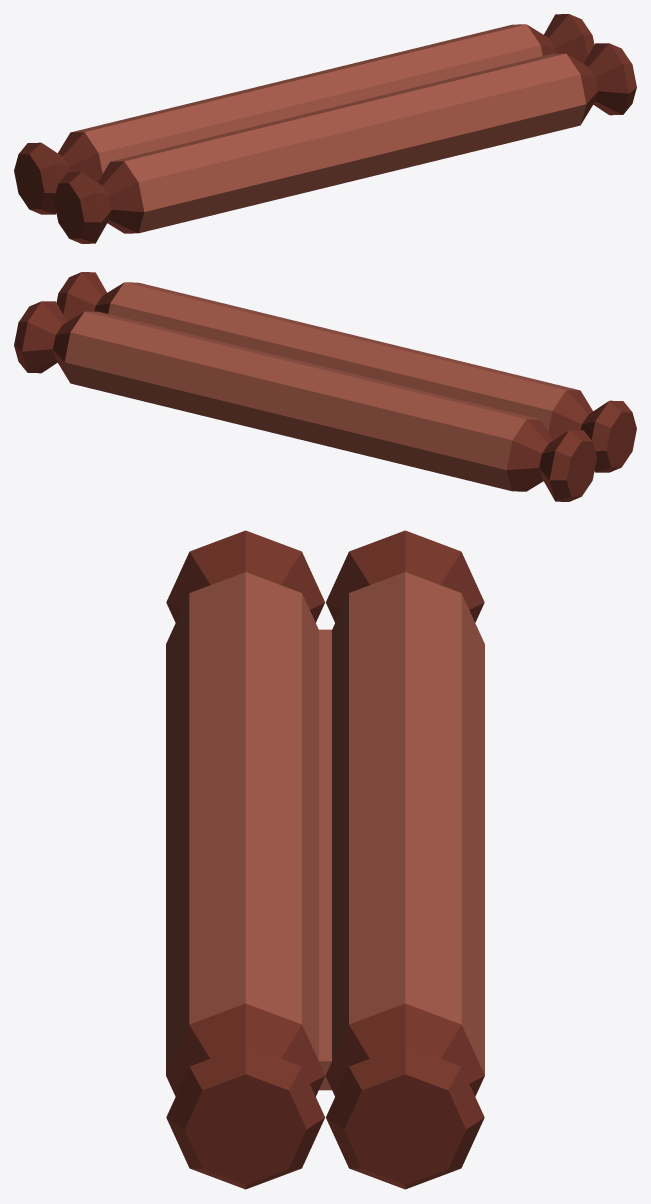
The model's file is Parchment_4_Red.fbx.
3 renders of one model, top to bottom at view 1: azimuth 30°, elevation 25°; view 2: azimuth 150°, elevation 25°; view 3: azimuth 270°, elevation 25°, orthographic. The views are drawn at different scales.
Visible parts, largest first — view 1: Parchment_4_Red_Part_2, Parchment_4_Red_Part_1; view 2: Parchment_4_Red_Part_2, Parchment_4_Red_Part_1; view 3: Parchment_4_Red_Part_2, Parchment_4_Red_Part_1.
Part boxes in pixels (box(x1,y1,x2,y2)): Parchment_4_Red_Part_2: box(72, 24, 586, 232); Parchment_4_Red_Part_1: box(14, 14, 636, 243); Parchment_4_Red_Part_2: box(64, 282, 578, 490); Parchment_4_Red_Part_1: box(14, 272, 636, 501); Parchment_4_Red_Part_2: box(166, 572, 484, 1090); Parchment_4_Red_Part_1: box(166, 530, 484, 1189).
Size of the model in its own units: 40 by 5 by 10.
